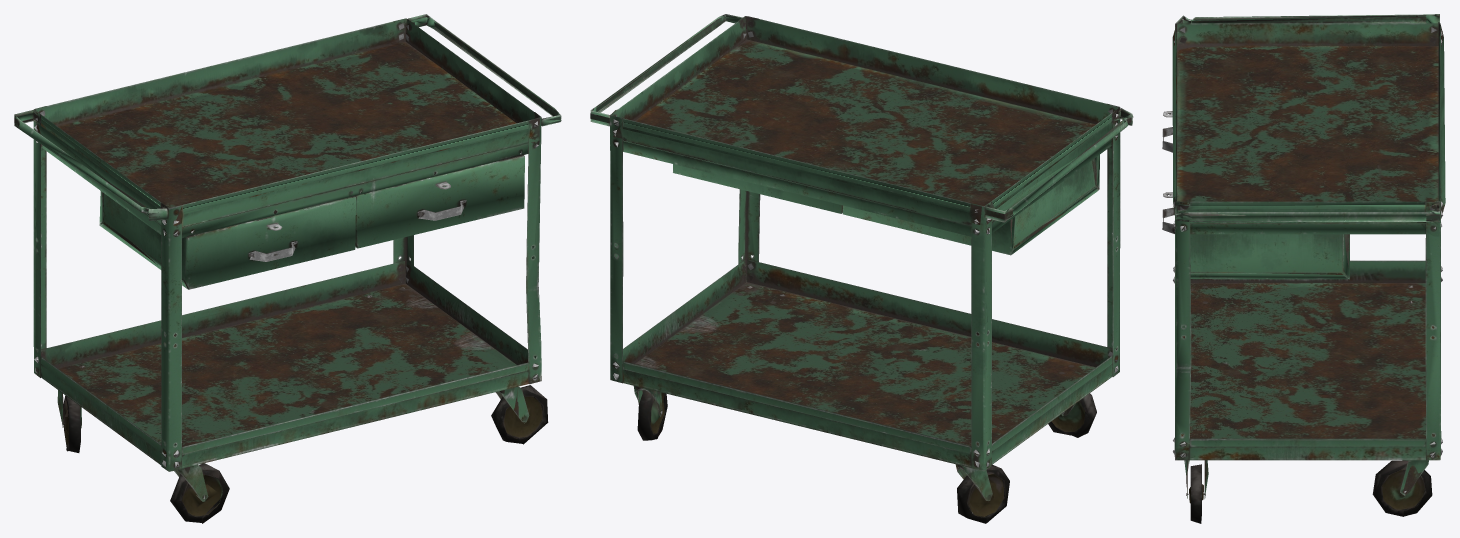
Rendered from tool_cart.fbx.
3 renders of one model, left to right at view 1: azimuth 30°, elevation 25°; view 2: azimuth 150°, elevation 25°; view 3: azimuth 270°, elevation 25°, orthographic. The views are drawn at different scales.
Parts seen in each view (by area): view 1: tool_cart; view 2: tool_cart; view 3: tool_cart.
Part boxes in pixels (<box>): tool_cart: <box>14,14,561,523</box>; tool_cart: <box>590,14,1133,523</box>; tool_cart: <box>1162,14,1445,523</box>.
Size of the model in its own units: 128 by 96.77 by 76.01.
1 material, 1 textured.
